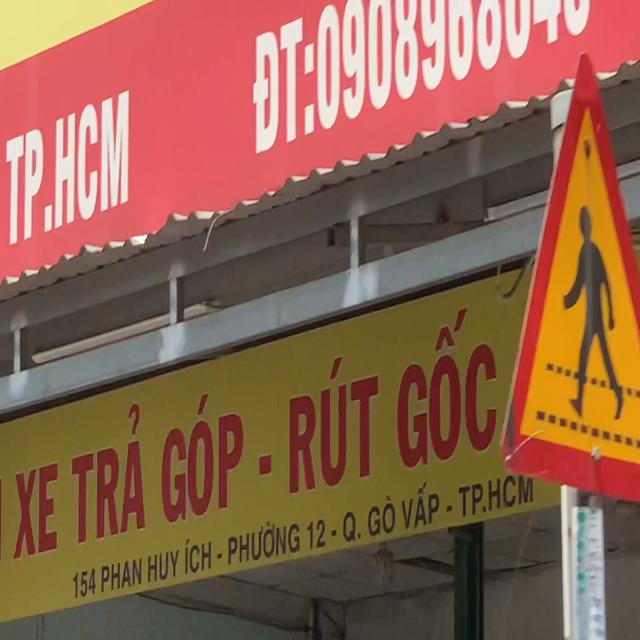Nguoi di bo cat ngang: (501, 51, 640, 508)
